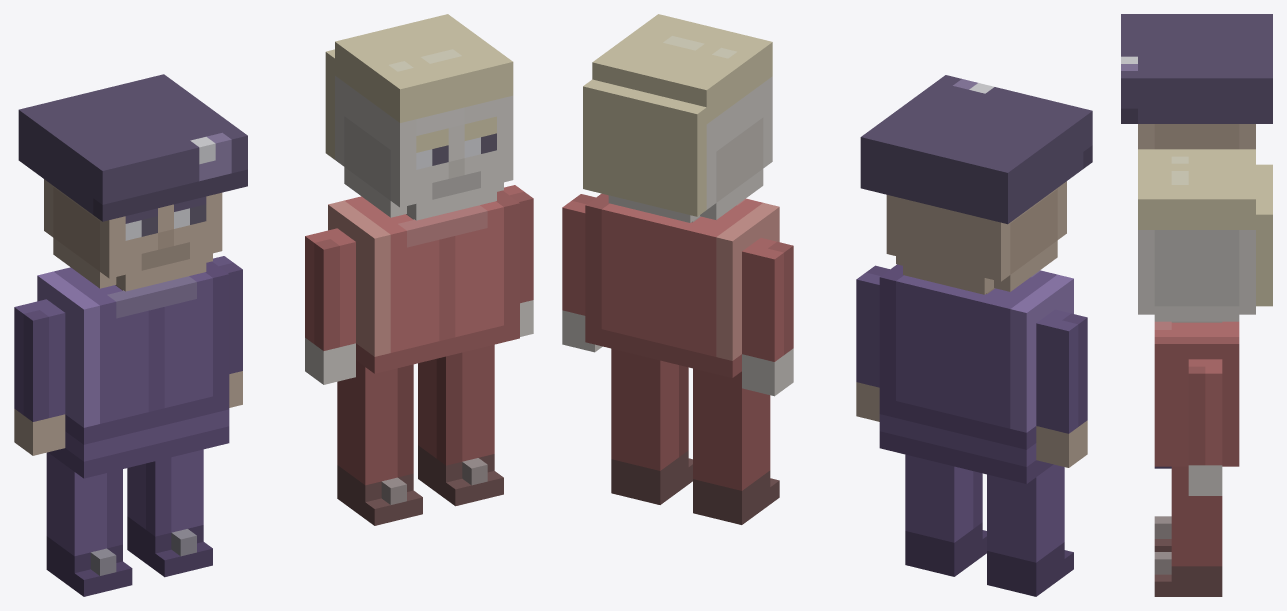
File: boss_saboo.glb
3 views of the same model, side by side, from view 1: azimuth 30°, elevation 25°; view 2: azimuth 150°, elevation 25°; view 3: azimuth 270°, elevation 25° (orthographic). The views are drawn at different scales.
Parts seen in each view (by area): view 1: armL, armR; view 2: armL, armR; view 3: armR, armL.
Boxes of the visible parts, box(x1,y1,x2,y2) form: armL: box(14, 74, 247, 596); armR: box(305, 14, 533, 525); armL: box(856, 75, 1092, 596); armR: box(562, 14, 793, 524); armR: box(1138, 149, 1272, 596); armL: box(1121, 14, 1272, 468).
Size of the model in its own units: 1.94 by 1.62 by 0.5625.
